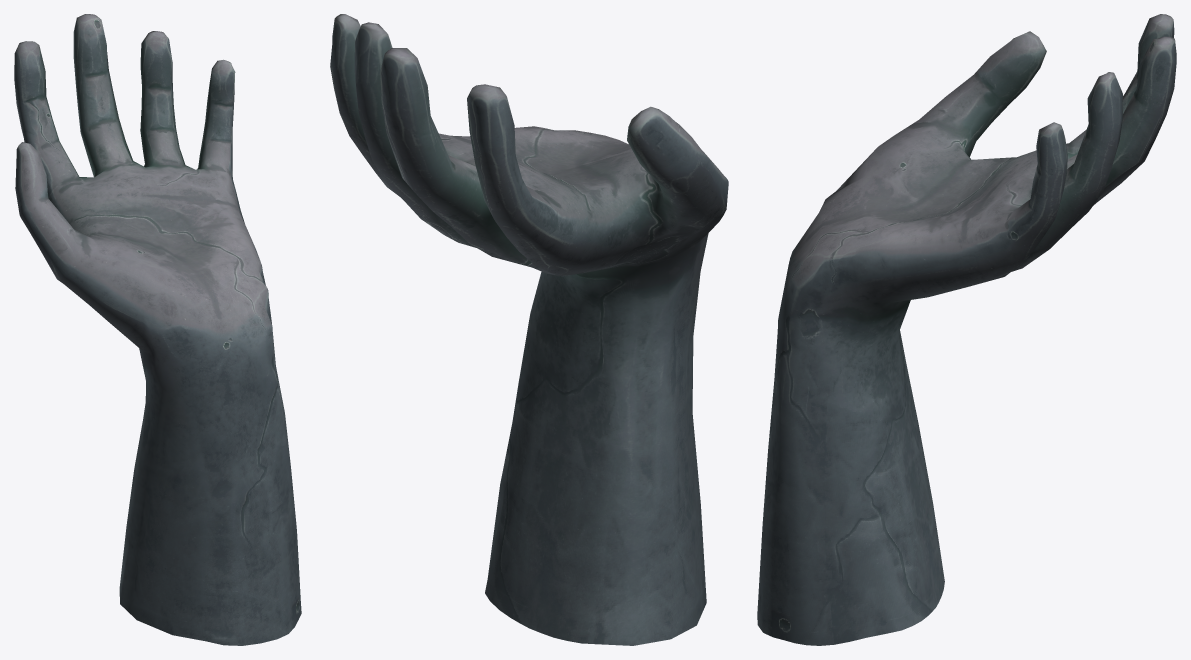
File: Fountain_Hand.fbx
The picture shows the model from 3 angles, left to right: view 1: azimuth 30°, elevation 25°; view 2: azimuth 150°, elevation 25°; view 3: azimuth 270°, elevation 25°; orthographic projection. The views are drawn at different scales.
Visible parts, largest first — view 1: Hand; view 2: Hand; view 3: Hand.
Part boxes in pixels (left/top/right/bottom): Hand: left=14, top=14, right=301, bottom=645; Hand: left=330, top=14, right=728, bottom=645; Hand: left=757, top=14, right=1176, bottom=645.
Size of the model in its own units: 83.88 by 167 by 110.
Materials: 1 (1 with a texture image).
